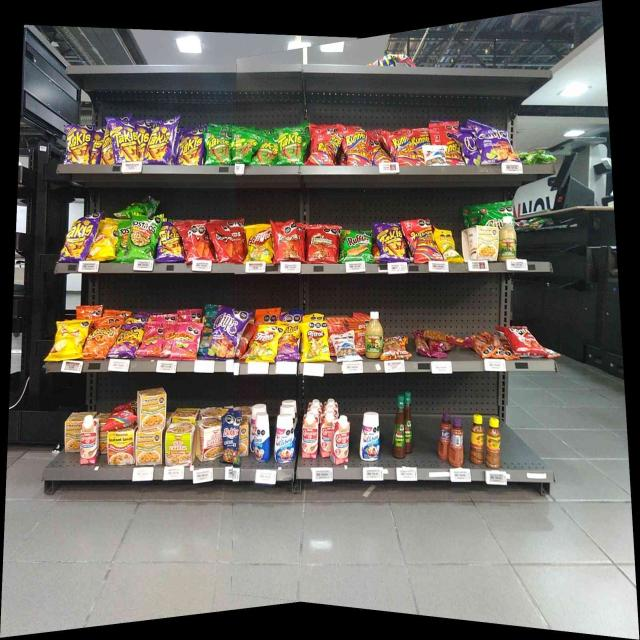bitzEnchilado95: (476, 332, 509, 357)
bitzHabanero: (430, 329, 469, 344), (416, 331, 428, 356)
bokadosCacahuates: (222, 412, 240, 465)
botaneraChilito: (486, 418, 500, 468), (470, 414, 484, 464)
cheetosFlaminHot: (280, 314, 300, 358), (116, 326, 140, 356)
cheetosOriginal: (88, 325, 111, 356)
chipsFuego: (213, 309, 240, 358), (481, 129, 512, 162), (463, 128, 479, 164)
chipsPapatinas: (520, 148, 552, 165)
churrumais: (172, 323, 196, 357), (143, 325, 162, 355)
delPrimoSalsa: (365, 310, 382, 357), (500, 216, 517, 258)
doritosNacho: (510, 326, 541, 355), (184, 220, 207, 258), (213, 222, 234, 261)
fritosLimon: (303, 323, 328, 359), (248, 227, 272, 260), (254, 327, 277, 361)
leoCacahuates: (422, 143, 447, 166), (336, 334, 356, 358)
leoMix: (384, 336, 407, 358)
maruchanPollo: (462, 226, 497, 260), (137, 388, 165, 428), (135, 430, 163, 464), (64, 412, 80, 452)
maruchanRes: (107, 432, 133, 464)
nestleCarnation: (80, 418, 99, 464), (332, 418, 349, 463), (303, 413, 317, 457), (320, 412, 331, 459)
nestleLechera: (360, 412, 379, 461), (275, 414, 294, 463), (254, 412, 270, 460)
nissinCamaron: (166, 423, 195, 464)
nissinRes: (197, 419, 221, 459)
rancheritos: (308, 226, 338, 262), (275, 222, 302, 260)
rufflesQueso: (342, 230, 370, 262)
runners: (409, 219, 436, 261), (344, 124, 367, 166), (312, 132, 339, 162), (390, 131, 414, 163), (108, 403, 134, 429), (370, 53, 411, 67), (448, 124, 462, 165), (371, 133, 387, 163)
sabritasOriginal: (56, 321, 82, 357), (95, 222, 114, 262)
salsaBufalo: (392, 395, 404, 459), (406, 391, 413, 453)
semillasCalabaza: (440, 229, 458, 261)
semillasGirasol: (200, 310, 210, 354)
tajinDulce: (449, 417, 464, 465), (438, 413, 448, 460)
takisFuego: (66, 214, 92, 259), (113, 118, 136, 164), (148, 119, 172, 162), (66, 125, 92, 163), (378, 222, 404, 260), (158, 223, 181, 259), (180, 130, 203, 163)
takisOriginal: (279, 127, 302, 164), (232, 127, 256, 162), (206, 130, 230, 164), (260, 137, 278, 164)
tostitos: (130, 218, 155, 260), (116, 219, 129, 261)
